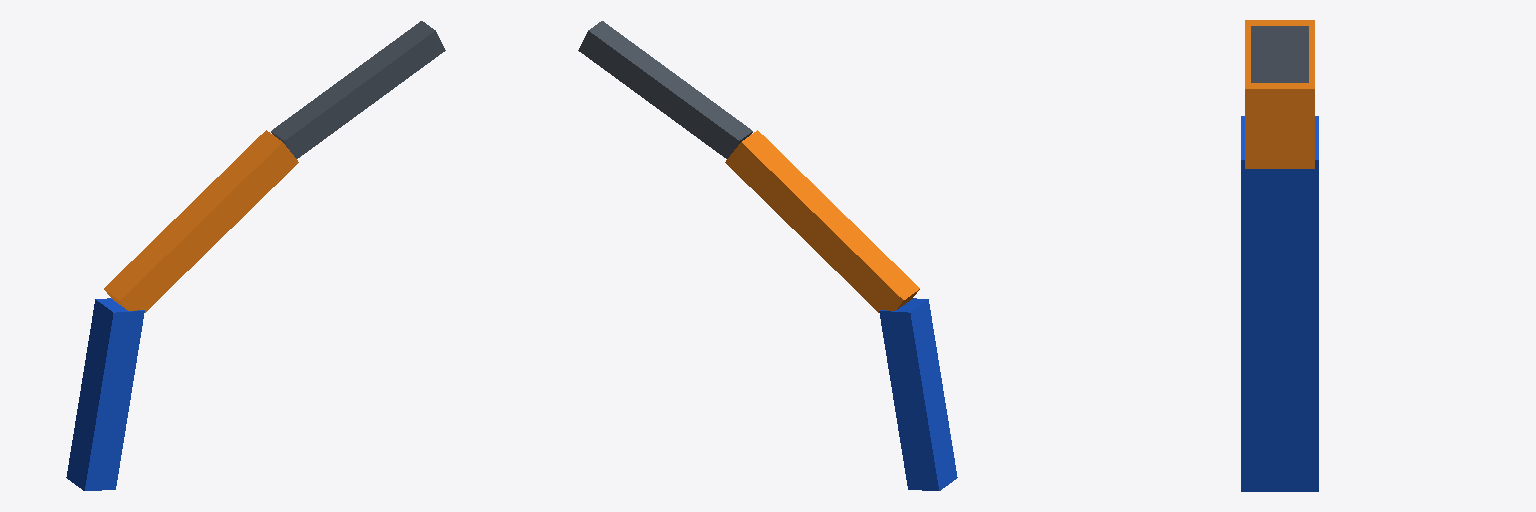
URDF robot description (arm_13_15_4_uncalibrated_draft):
<?xml version="1.0"?>
<robot name="arm_13_15_4_uncalibrated_draft">
  <!--
  KINEMATIC DRAFT: user-measured link lengths; angular calibration provisional.
  Source: user's five photographs and cumulative ESP32 command history.

  EXACT COMMAND HISTORY (commanded values, not measured shaft positions):
  photo     ch13   ch15   ch4    ch14   ch1   ch0
    1        70    120   200      90    90    70
    2        60    120   200      90    90    70
    3        80     90   200      90    90    70
    4        80     90    90      90    90    70
    5        80    110    90      90    90    70
  The intermediate ch13=100 command was superseded by ch13=80 before photo 3.
  The numeric ch0 startup is 70 despite the contradictory source-code comment.

  CHAIN: shoulder ch13 -> elbow ch15 -> wrist pitch ch4 -> fixed tool.
  ch14 stays at 90; ch1 stays at 90; ch0 stays at 70. They are NOT modeled
  as movable joints. base_link is AT THE CH13 PIVOT, not the table or ch14.
  Coordinates: +X toward the left of the reference photo, +Z upward,
  +Y toward the camera. Assume parallel pitch axes and planar links.
  This is an idealized local frame, not calibrated camera/world coordinates.

  REFERENCE: q13=q15=q4=0 represents the commands in photo 4.
  PROVISIONAL mapping, assuming one physical degree per command degree:
    q13 = (command13 - 80) * pi/180
    q15 = (command15 - 90) * pi/180
    q4  = (command4  - 90) * pi/180
  Inverse: command13=80+q13*180/pi, command15=90+q15*180/pi,
           command4=90+q4*180/pi.
  URDF does not implement this command conversion; the controller must.
  Positive rotation about +Y lowers a link initially pointing along +X.
  Signs are inferred from photos 1/2, 4/5, and 3/4 respectively.
  Unit gains and reference offsets need calibration; photo perspective,
  horn offsets, loading and unknown PWM mapping prevent an exact fit.
  ch4=200 is kept as a command value; it is NOT proof of 200-degree travel.

  ROUGH PHOTO-4 REFERENCE ORIENTATIONS, NOT MEASURED CALIBRATION:
    upper arm elevation: +80 deg
    forearm elevation:   +35 deg (relative elbow bend -45 deg)
    distal tool:         +25 deg (relative wrist bend -10 deg)
  Therefore joint origin pitches below are -80, +45, +10 degrees.
  These rough choices do NOT claim to reproduce all five images accurately.

  USER-MEASURED PIVOT-TO-PIVOT LENGTHS (converted from centimeters):
    L13_15 = 0.105 m: ch13 pivot center to ch15 pivot center
    L15_4  = 0.125 m: ch15 pivot center to ch4 pivot center
    L4_EE  = 0.105 m: ch4 pivot center to gripper motor pivot center
  gripper_end_effector is located at that gripper motor pivot. The final
  measurement does not specify a fingertip or between-fingers grasp point.
  A grasp-point frame would require an additional measured fixed offset.
  Scalar lengths are represented along each link's local +X; parallel axes,
  planar geometry and zero transverse offsets remain modeling assumptions.
  Visual boxes are schematic; their widths and thicknesses are placeholders.

  Position limits are ONLY envelopes of commands represented in the photos,
  converted with the provisional mapping. They are NOT verified mechanical
  limits or a collision-free range. The unphotographed ch13=100 is excluded.
  Effort and velocity are zero placeholders: this is not a dynamics/control
  model. Replace with measured/verified limits before controlled operation.
  No masses, inertias, collision geometry, transmissions or hardware driver.
  Before physical IK: verify geometry/offsets and pulse mapping (especially 200),
  calibrate signs/gains/offsets, and establish joint/collision limits.
  -->

  <material name="upper_blue"><color rgba="0.15 0.40 0.85 1"/></material>
  <material name="forearm_orange"><color rgba="0.95 0.55 0.15 1"/></material>
  <material name="tool_gray"><color rgba="0.35 0.38 0.42 1"/></material>

  <link name="base_link"/>

  <link name="upper_arm_link">
    <visual>
      <origin xyz="0.0525 0 0" rpy="0 0 0"/>
      <geometry><box size="0.105 0.020 0.020"/></geometry>
      <material name="upper_blue"/>
    </visual>
  </link>
  <joint name="joint_13" type="revolute">
    <parent link="base_link"/>
    <child link="upper_arm_link"/>
    <origin xyz="0 0 0" rpy="0 -1.396263401595 0"/>
    <axis xyz="0 1 0"/>
    <limit lower="-0.349065850399" upper="0" effort="0" velocity="0"/>
  </joint>

  <link name="forearm_link">
    <visual>
      <origin xyz="0.0625 0 0" rpy="0 0 0"/>
      <geometry><box size="0.125 0.018 0.018"/></geometry>
      <material name="forearm_orange"/>
    </visual>
  </link>
  <joint name="joint_15" type="revolute">
    <parent link="upper_arm_link"/>
    <child link="forearm_link"/>
    <!-- L13_15 = 10.5 cm, measured between motor pivots. -->
    <origin xyz="0.105 0 0" rpy="0 0.785398163397 0"/>
    <axis xyz="0 1 0"/>
    <limit lower="0" upper="0.523598775598" effort="0" velocity="0"/>
  </joint>

  <link name="distal_tool_link">
    <visual>
      <origin xyz="0.0525 0 0" rpy="0 0 0"/>
      <geometry><box size="0.105 0.015 0.015"/></geometry>
      <material name="tool_gray"/>
    </visual>
  </link>
  <joint name="joint_4" type="revolute">
    <parent link="forearm_link"/>
    <child link="distal_tool_link"/>
    <!-- L15_4 = 12.5 cm, measured between motor pivots. -->
    <origin xyz="0.125 0 0" rpy="0 0.174532925199 0"/>
    <axis xyz="0 1 0"/>
    <limit lower="0" upper="1.919862177194" effort="0" velocity="0"/>
  </joint>

  <link name="gripper_end_effector"/>
  <joint name="gripper_end_effector_fixed" type="fixed">
    <parent link="distal_tool_link"/>
    <child link="gripper_end_effector"/>
    <!-- L4_EE = 10.5 cm to gripper motor pivot; ch1=90 and ch0=70 remain fixed. -->
    <origin xyz="0.105 0 0" rpy="0 0 0"/>
  </joint>
</robot>

--- What the picture shows (computed from the rendered views, not written in the file) ---
3 views of the same robot in one strip: view 1: azimuth 30°, elevation 25°; view 2: azimuth 150°, elevation 25°; view 3: azimuth 270°, elevation 25° (orthographic).
Robot: arm_13_15_4_uncalibrated_draft — 5 links, 4 joints (3 revolute, 1 fixed); root link base_link; default pose: every joint at zero.
Visible links, largest first — view 1: forearm_link, upper_arm_link, distal_tool_link; view 2: forearm_link, upper_arm_link, distal_tool_link; view 3: upper_arm_link, forearm_link, distal_tool_link.
Link boxes in pixels (left/top/right/bottom): forearm_link: left=104, top=130, right=298, bottom=312; upper_arm_link: left=66, top=298, right=144, bottom=490; distal_tool_link: left=271, top=21, right=445, bottom=158; forearm_link: left=725, top=130, right=919, bottom=312; upper_arm_link: left=879, top=298, right=957, bottom=490; distal_tool_link: left=578, top=21, right=752, bottom=158; upper_arm_link: left=1241, top=116, right=1318, bottom=491; forearm_link: left=1245, top=20, right=1314, bottom=168; distal_tool_link: left=1251, top=26, right=1308, bottom=82.
Size in the robot's own frame: 0.2288 by 0.02 by 0.228 metres.
Geometry: primitives only (box / cylinder / sphere), no mesh files.
